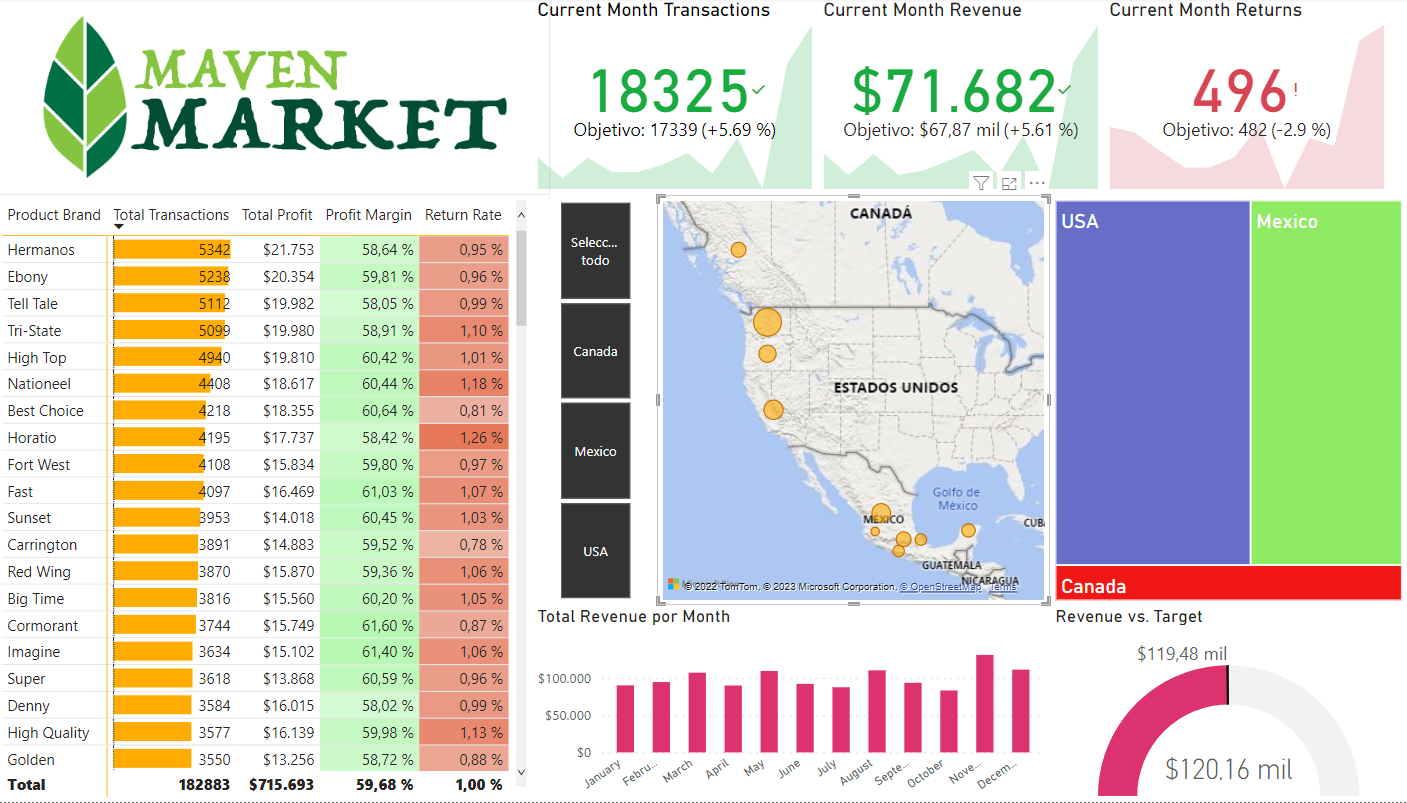

The page's visual inventory and layout, read from the dashboard file:
{"tool":"powerbi","page":{"name":"Page 1","canvas":[1280,720],"ordinal":0},"visuals":[{"type":"image","box":[16,0,496,176],"z":0},{"type":"pivotTable","fields":{"Rows":["Products.product_brand"],"Values":["Transaction_Data.Total Transactions","Transaction_Data.Total Profit","Transaction_Data.Profit Margin","Return_Data.Return Rate"]},"box":[16,176,480,544],"z":1000},{"type":"kpi","title":"Current Month Transactions","fields":{"Goal":["Transaction_Data.Last Month Transactions"],"Indicator":["Transaction_Data.Total Transactions"],"TrendLine":["Calendar.Start of Month"]},"box":[496,0,256,176],"z":2000},{"type":"kpi","title":"Current Month Revenue","fields":{"TrendLine":["Calendar.Start of Month"],"Indicator":["Transaction_Data.Total Profit"],"Goal":["Transaction_Data.Last Month Profit"]},"box":[752,0,256,176],"z":3000},{"type":"kpi","title":"Current Month Returns","fields":{"Goal":["Return_Data.Last Month Returns"],"Indicator":["Return_Data.Total Returns"],"TrendLine":["Calendar.Start of Month"]},"box":[1008,0,256,176],"z":4000},{"type":"map","fields":{"Category":["Stores.store_state","Stores.store_city"],"Size":["Transaction_Data.Total Transactions"]},"box":[608,176,352,368],"z":5000},{"type":"slicer","fields":{"Values":["Stores.store_country"]},"box":[496,176,112,368],"z":6000},{"type":"treemap","fields":{"Values":["Transaction_Data.Total Transactions"],"Group":["Stores.store_country"]},"box":[960,176,320,368],"z":7000},{"type":"clusteredColumnChart","fields":{"Y":["Transaction_Data.Total Revenue"],"Category":["Calendar.Start of Week.Variation.Date Hierarchy.Month"]},"box":[496,544,464,176],"z":8000},{"type":"gauge","title":"Revenue vs. Target","fields":{"Y":["Transaction_Data.Total Revenue"],"TargetValue":["Transaction_Data.Revenue Target"]},"box":[960,544,320,176],"z":9000}]}

Visuals, with their boxes in screenshot pixels (x1, y1, x2, y2), scaled from the page's 1280x720 canvas onto the 1407x803 screenshot:
image: box=[18, 0, 563, 196]
pivotTable - Products.product_brand x Transaction_Data.Total Transactions: box=[18, 196, 545, 802]
"Current Month Transactions" kpi: box=[545, 0, 827, 196]
"Current Month Revenue" kpi: box=[827, 0, 1108, 196]
"Current Month Returns" kpi: box=[1108, 0, 1389, 196]
map - Stores.store_state x Stores.store_city: box=[668, 196, 1055, 607]
slicer - Stores.store_country: box=[545, 196, 668, 607]
treemap - Transaction_Data.Total Transactions x Stores.store_country: box=[1055, 196, 1406, 607]
clusteredColumnChart - Transaction_Data.Total Revenue x Calendar.Start of Week.Variation.Date Hierarchy.Month: box=[545, 607, 1055, 802]
"Revenue vs. Target" gauge: box=[1055, 607, 1406, 802]
